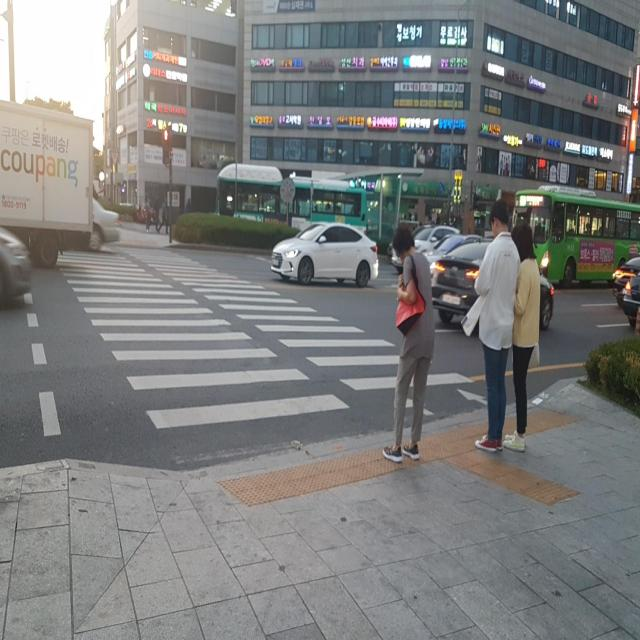횡단보도: (53, 244, 490, 434)
